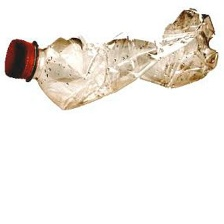bottle: (2, 4, 221, 113)
